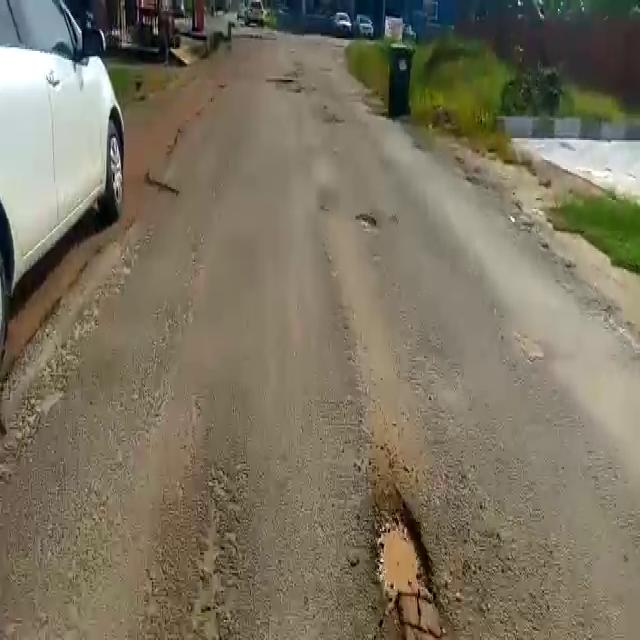Pothole: (358, 483, 448, 632), (356, 212, 376, 232)
